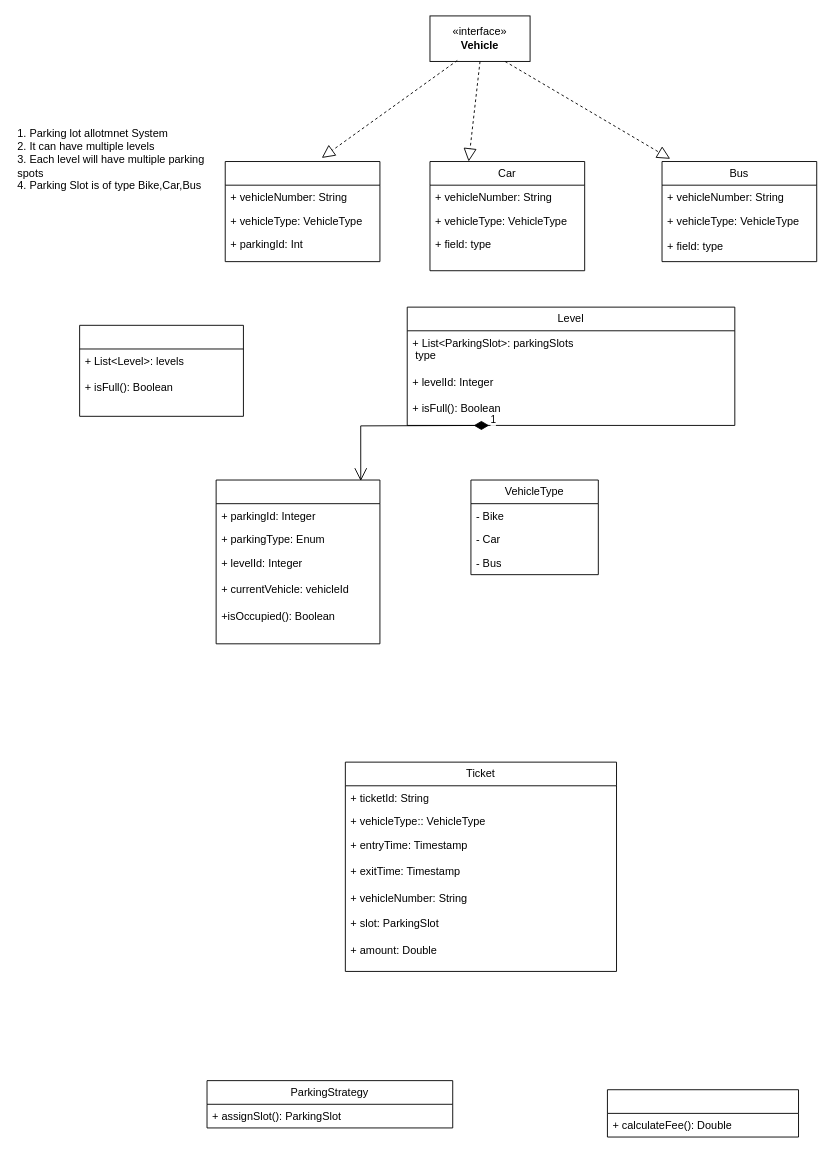
This 833x1156 diagram has some shape labels left out. Here are the shapes that lost their labels. From the top down, the box of each, then its label:
(224, 161, 380, 262): Bike
(79, 324, 243, 416): ParkingPlace
(215, 479, 380, 644): ParkingSlot
(607, 1089, 799, 1137): PricingStrategy
